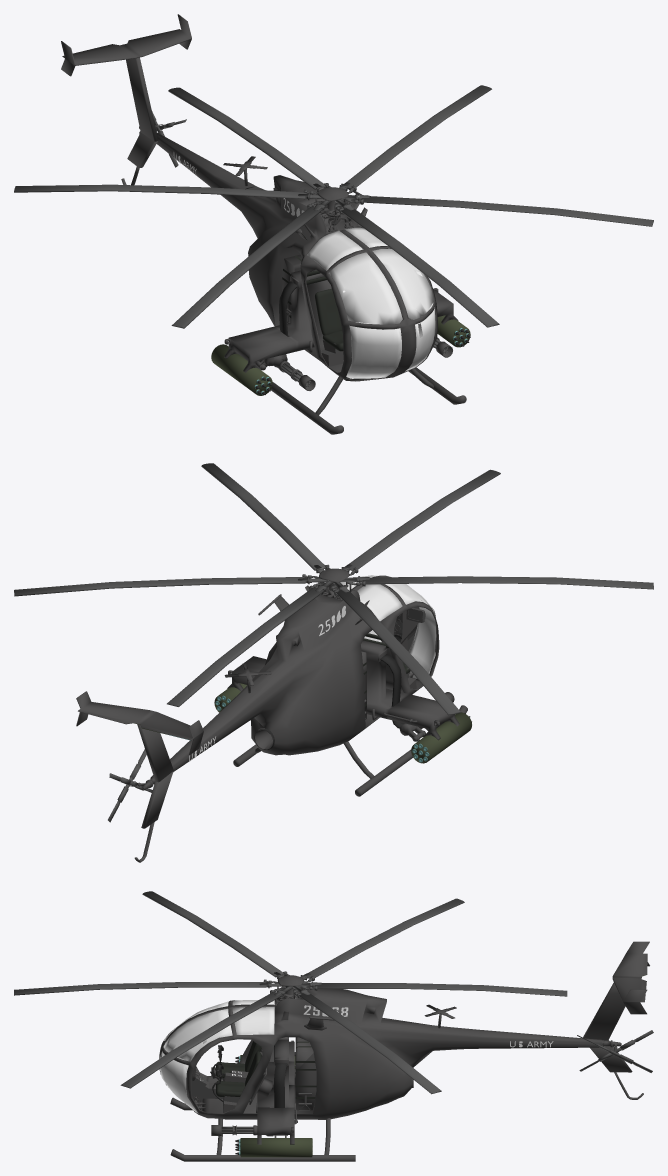
The model's file is MH-6 Little Bird.fbx.
The picture shows the model from 3 angles, top to bottom: view 1: azimuth 30°, elevation 25°; view 2: azimuth 150°, elevation 25°; view 3: azimuth 270°, elevation 25°; orthographic projection. The views are drawn at different scales.
Parts seen in each view (by area): view 1: MH-6 Littel Bird Main; view 2: MH-6 Littel Bird Main; view 3: MH-6 Littel Bird Main.
Part boxes in pixels (bbox=[...]): MH-6 Littel Bird Main: bbox=[14, 14, 653, 434]; MH-6 Littel Bird Main: bbox=[14, 463, 653, 862]; MH-6 Littel Bird Main: bbox=[14, 891, 653, 1161].
Size of the model in its own units: 881 by 341 by 1178.
